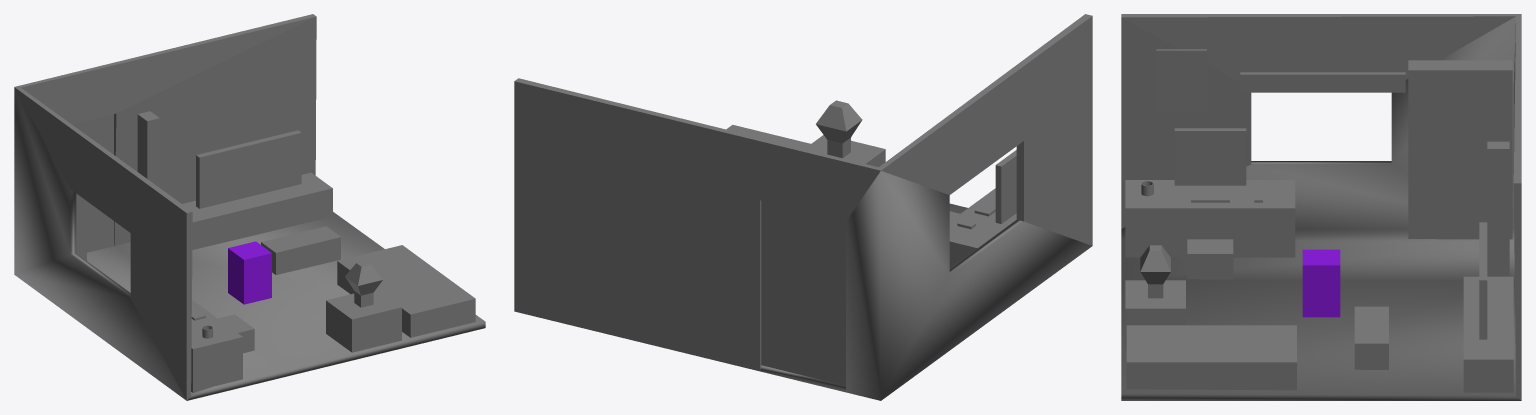
Rendered from dummy_scene.fbx.
The picture shows the model from 3 angles, left to right: view 1: azimuth 30°, elevation 25°; view 2: azimuth 150°, elevation 25°; view 3: azimuth 270°, elevation 25°; orthographic projection. The views are drawn at different scales.
Visible parts, largest first — view 1: Scene, CH; view 2: Scene; view 3: Scene, CH.
Part boxes in pixels (x1=…): Scene: x1=14, y1=14, x2=485, y2=400; CH: x1=228, y1=241, x2=271, y2=304; Scene: x1=514, y1=14, x2=1092, y2=400; Scene: x1=1121, y1=14, x2=1521, y2=400; CH: x1=1302, y1=249, x2=1340, y2=317.
Size of the model in its own units: 1000 by 600 by 1000.
